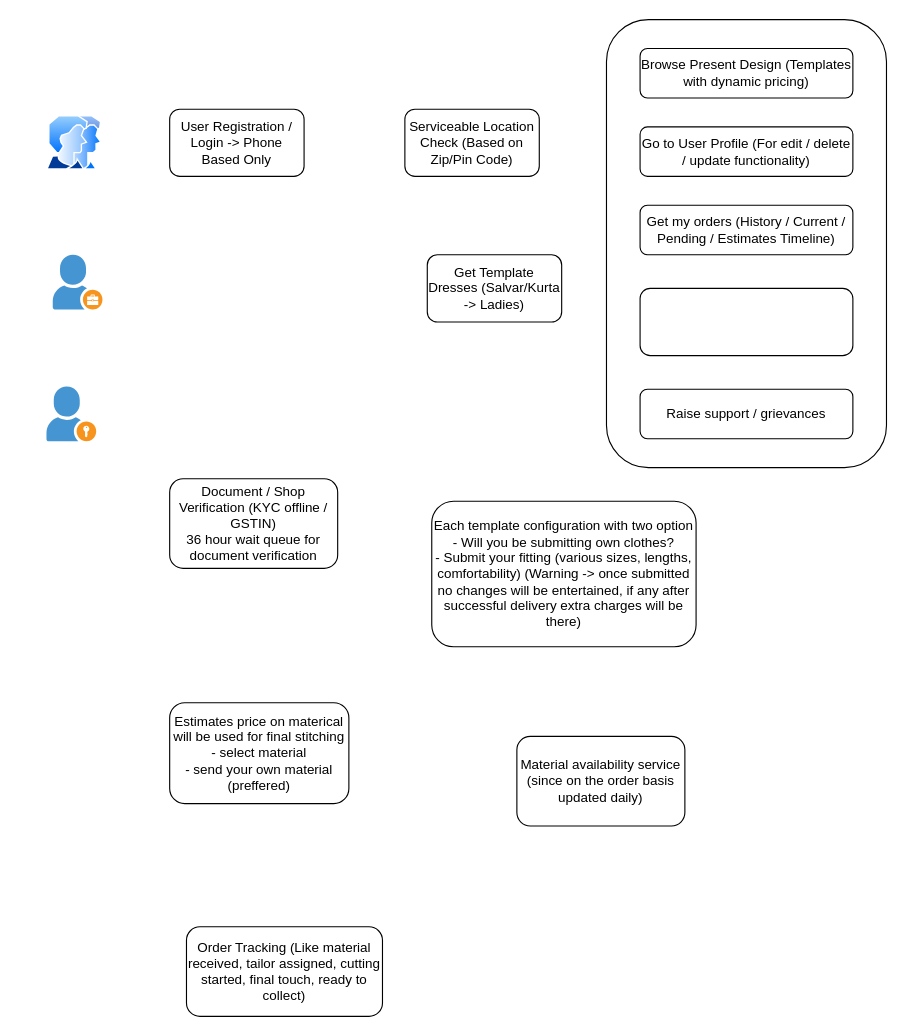
The diagram is 907 pixels wide and 1036 high, and some of its shapes have lost their labels. The centre of each missing label's shape, as x and y in pixels:
Admin: the point at 71,413
Check tailors around your locality (Book Appointment): the point at 746,321
Consumer: the point at 74,142
Tailor / Shop Owner: the point at 77,281
